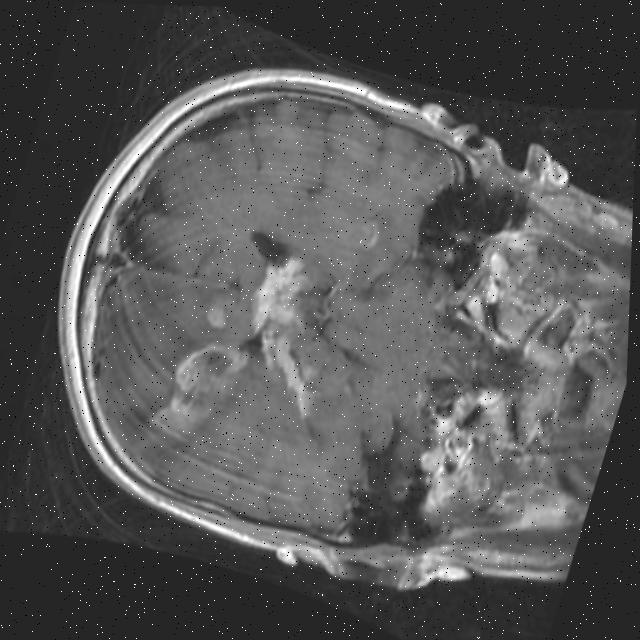Glioma: (217, 245, 355, 426), (145, 328, 251, 450)
